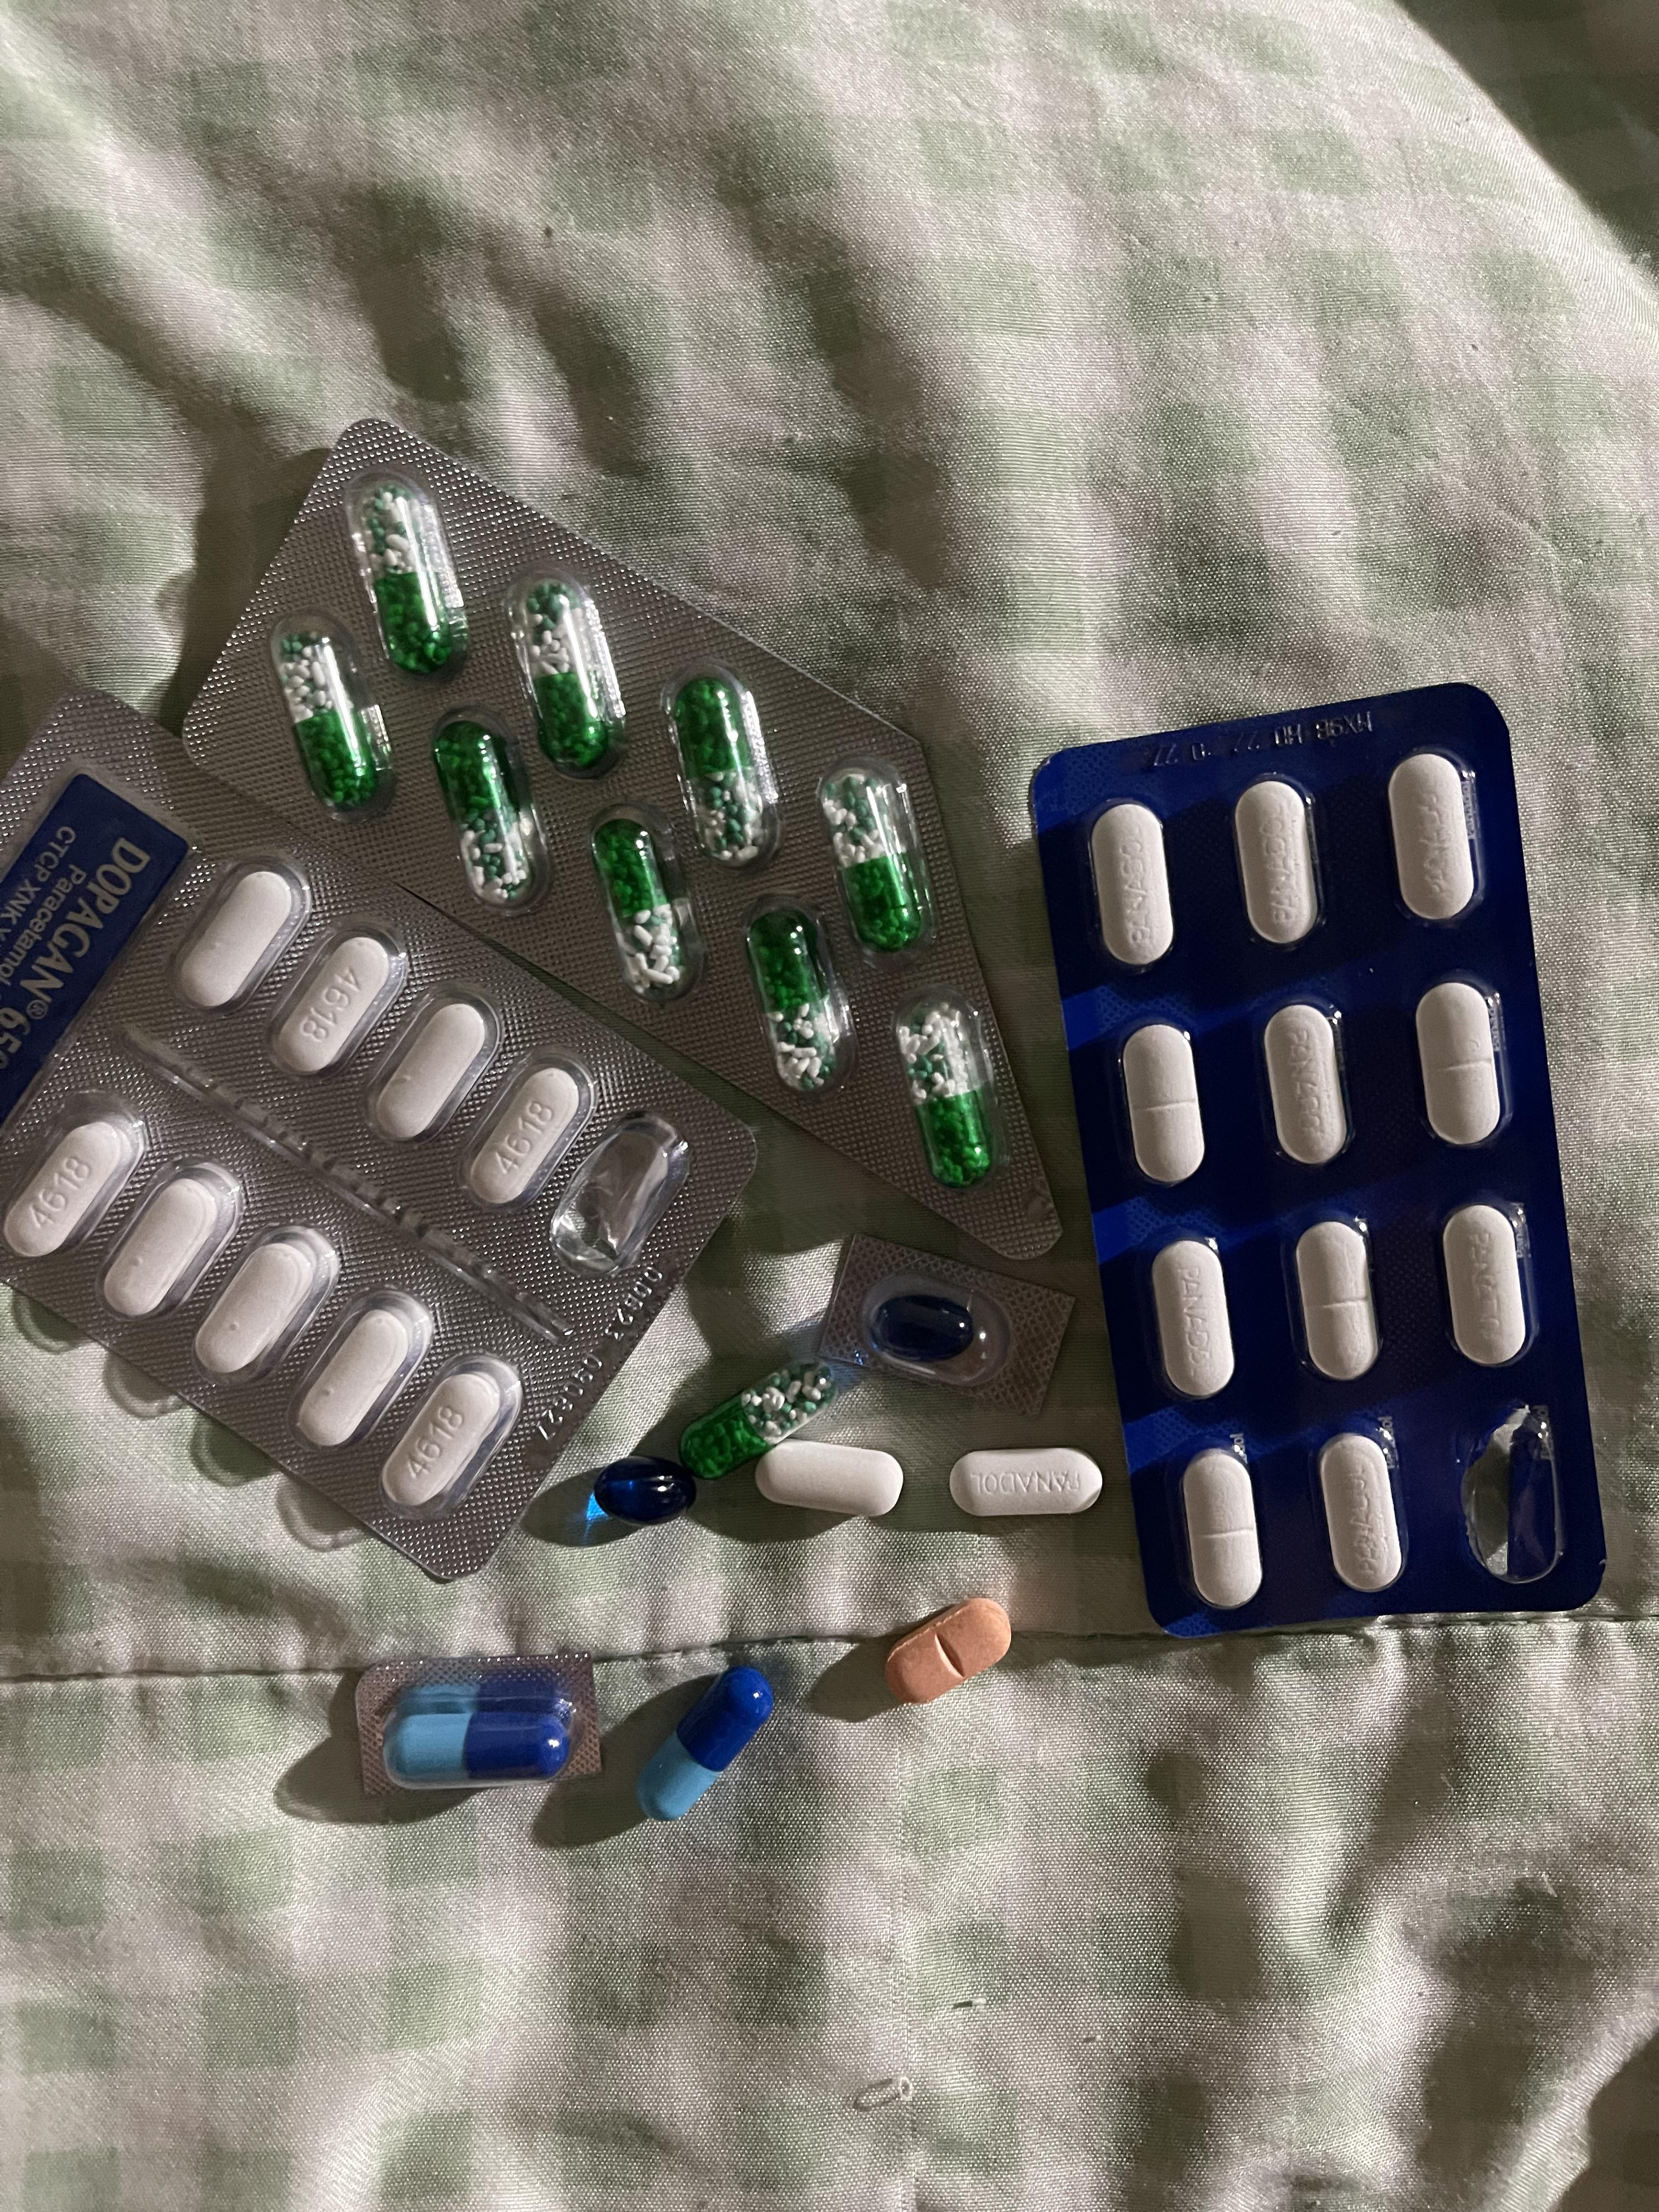Lincomyxin_500mg: (873, 1292, 978, 1362), (591, 1456, 694, 1524)
Loratadine_10mg: (885, 1595, 1014, 1705)
Paracetamol_350mg: (1389, 751, 1481, 927), (1415, 979, 1506, 1148), (1441, 1200, 1530, 1367), (1234, 780, 1321, 949), (1262, 1005, 1351, 1170), (1295, 1219, 1382, 1383), (1317, 1433, 1405, 1594), (1152, 1238, 1236, 1400), (1122, 1024, 1204, 1188), (1087, 803, 1168, 970), (1182, 1447, 1262, 1609), (950, 1446, 1101, 1517)
Paracetamol_500mg: (288, 1287, 432, 1453), (193, 1223, 336, 1386), (265, 914, 404, 1082), (380, 1352, 523, 1512), (364, 984, 502, 1146), (101, 1160, 239, 1320), (458, 1047, 592, 1211), (5, 1116, 132, 1259), (176, 869, 300, 1008), (756, 1437, 901, 1512)
Paracetamol_650mg: (361, 484, 462, 674), (896, 998, 993, 1186), (678, 1362, 830, 1482), (674, 678, 770, 867), (434, 718, 532, 899), (277, 641, 380, 810), (826, 768, 924, 946), (592, 822, 688, 998), (749, 920, 840, 1099), (523, 592, 615, 768)
pill: (385, 1670, 580, 1789), (638, 1663, 777, 1818)
